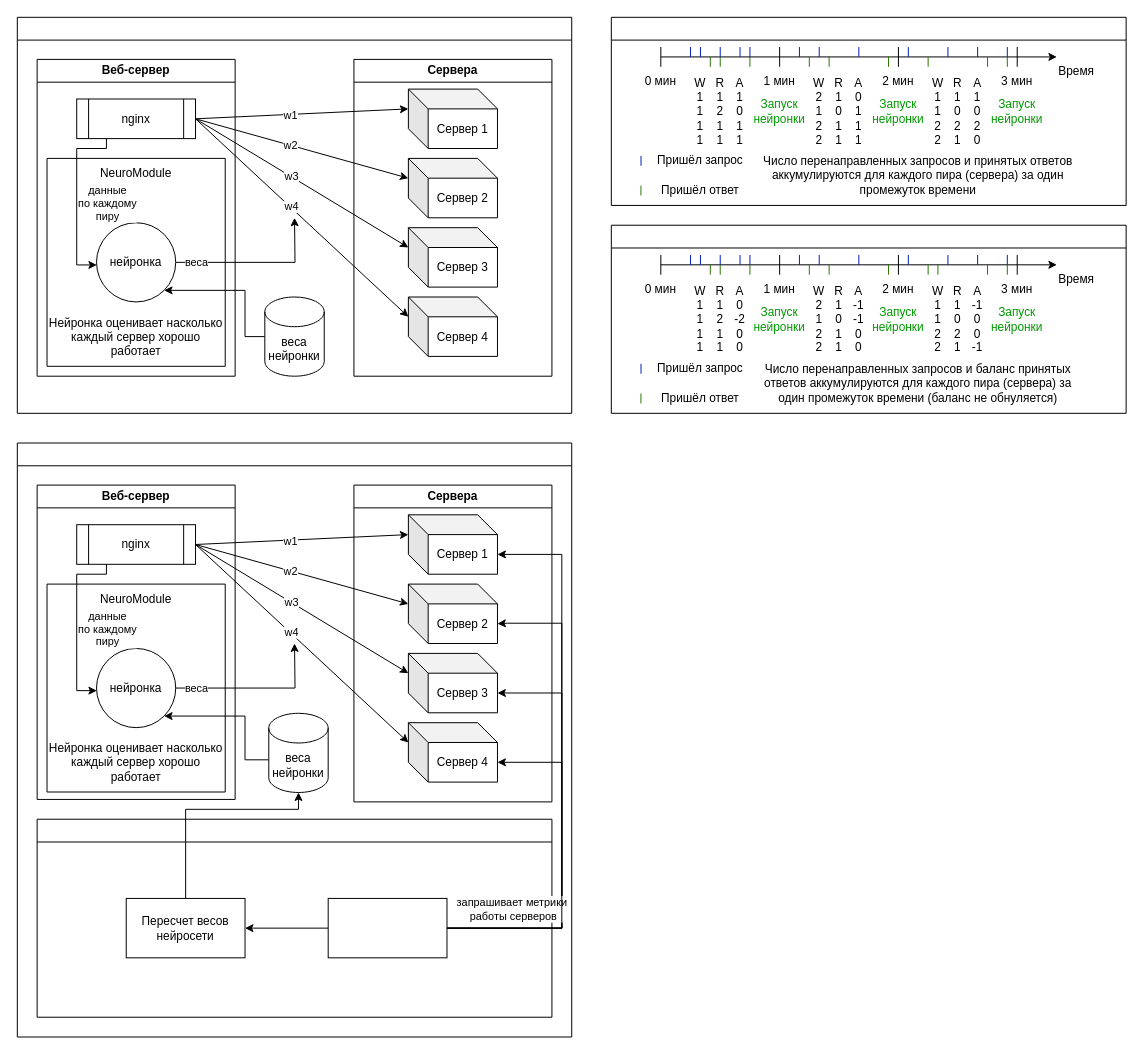
This 1143x1054 diagram has some shape labels left out. Here are the shapes that lost their labels. From the top down, the box of each, then its label:
(610, 16, 1126, 205): Работа
(16, 16, 572, 413): Боевая версия взаимодействия (после обучения)
(610, 224, 1126, 413): Работа (альтернативный вариант)
(16, 442, 572, 1037): Рабочая версия взаимодействия (во время обучения)
(36, 818, 552, 1017): Обучение (Python)
(327, 897, 447, 958): Оценщик действий нейросети
